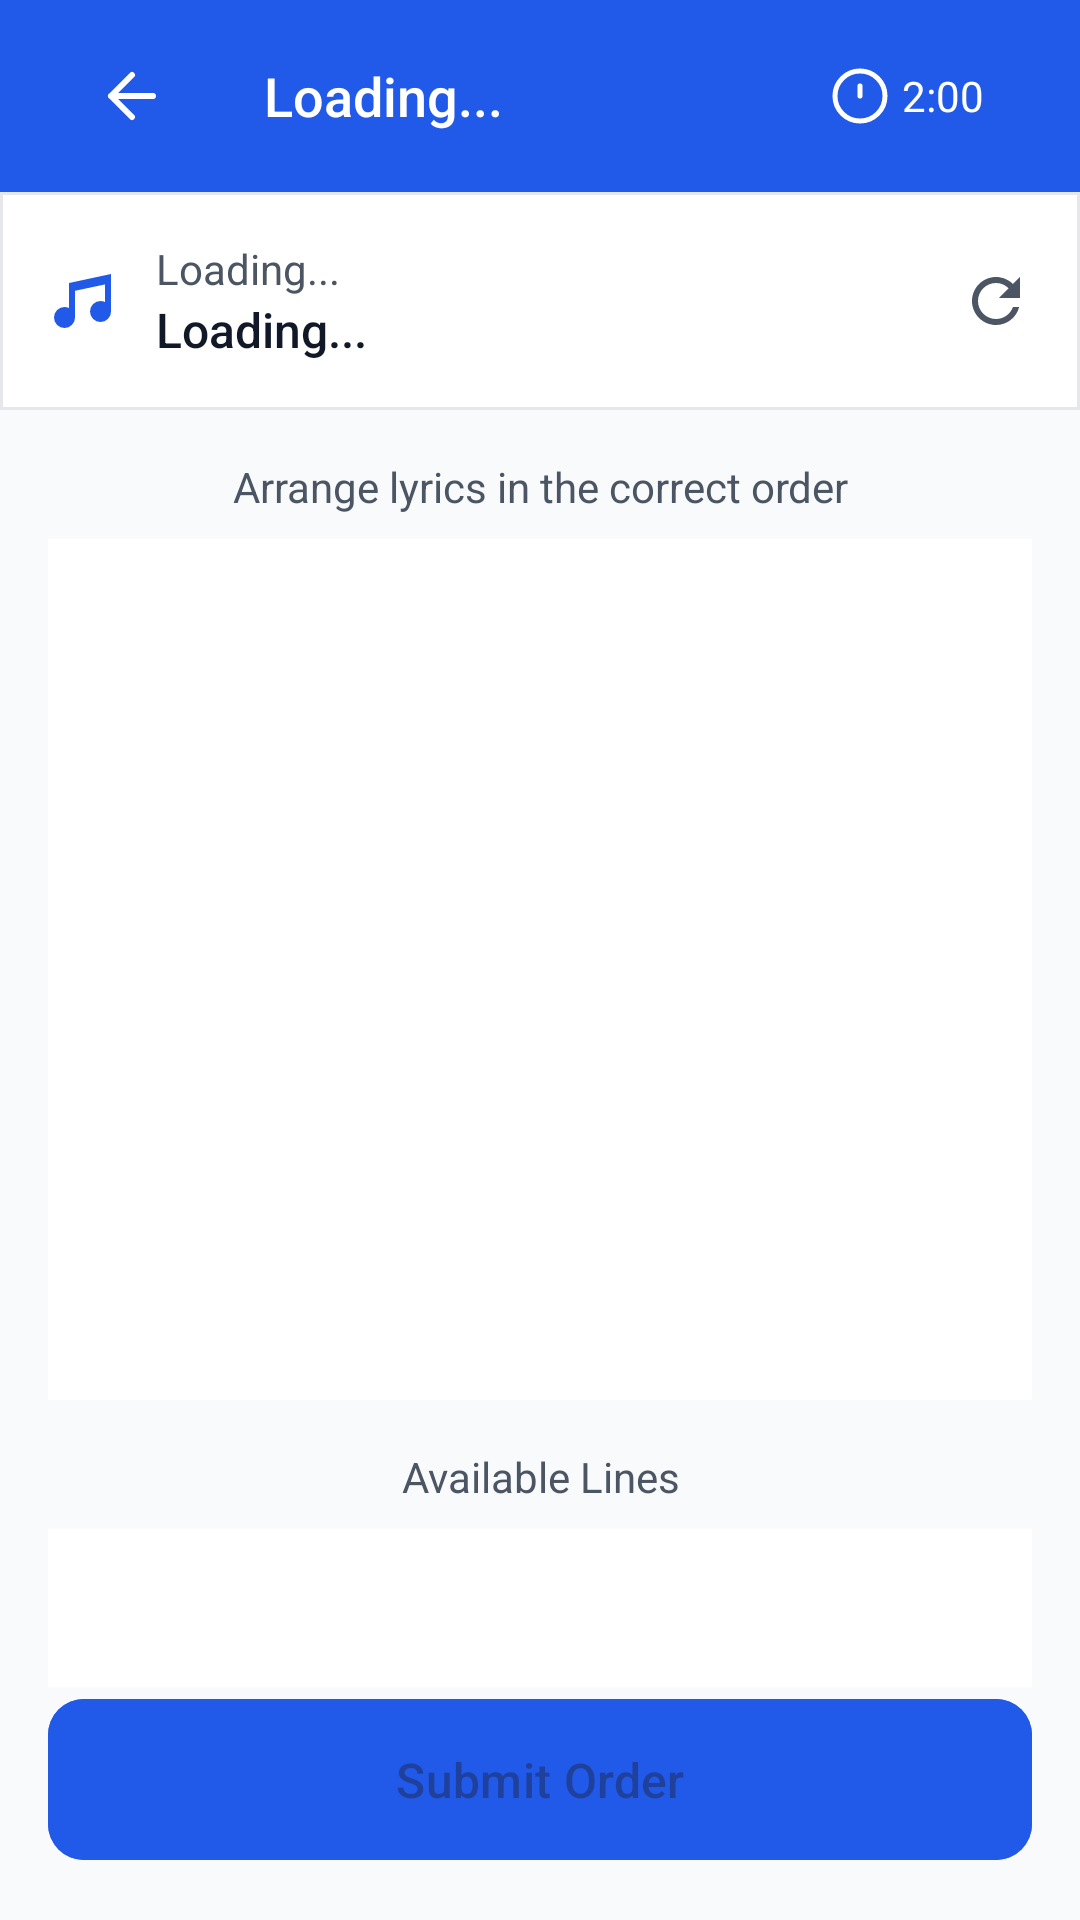

Screen size 1080×1920. Icon name, then its center in pixels as [x,y]:
arrow left: [132,96]
clock: [860,96]
music: [82,301]
refresh: [996,301]
